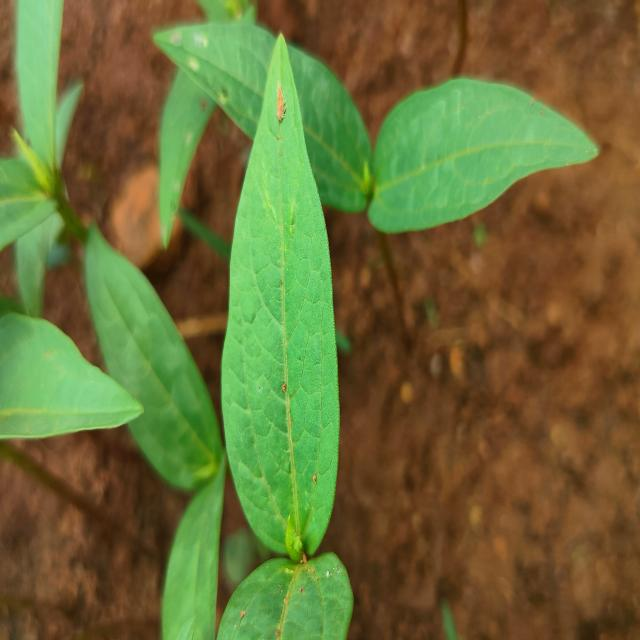Black gram_healthy: (224, 33, 339, 556), (157, 20, 375, 219), (82, 235, 222, 481), (370, 78, 598, 227), (0, 311, 145, 441)
